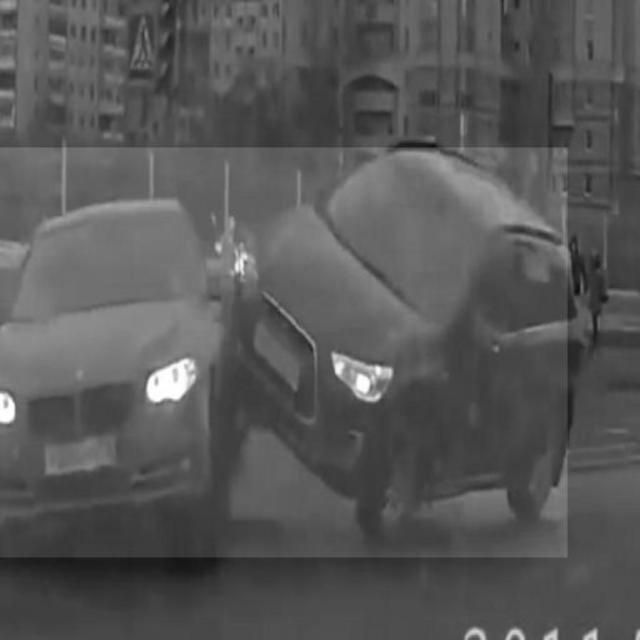accident: (0, 147, 567, 557)
